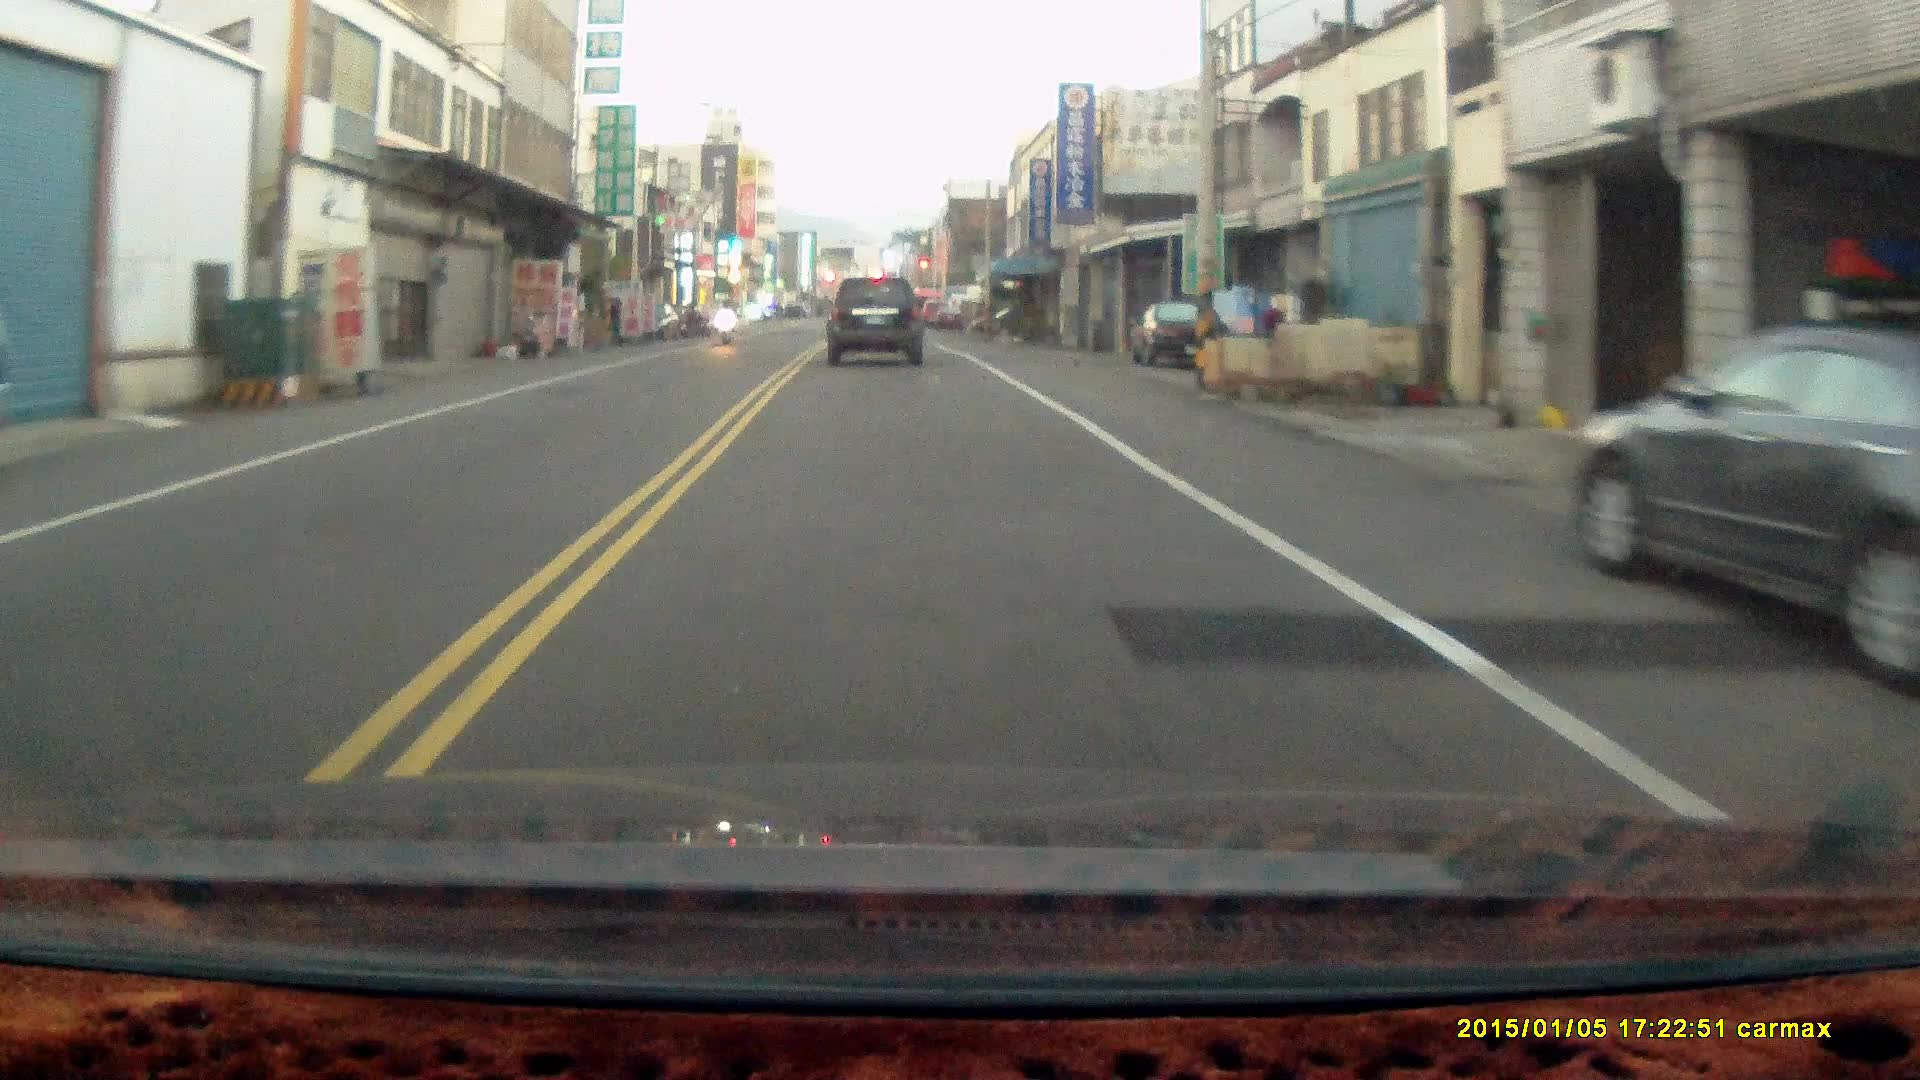pedestrian: (603, 293, 624, 349)
rider: (709, 290, 736, 342)
vehicle: (1566, 323, 1920, 681), (826, 277, 927, 370), (1131, 299, 1236, 373)
